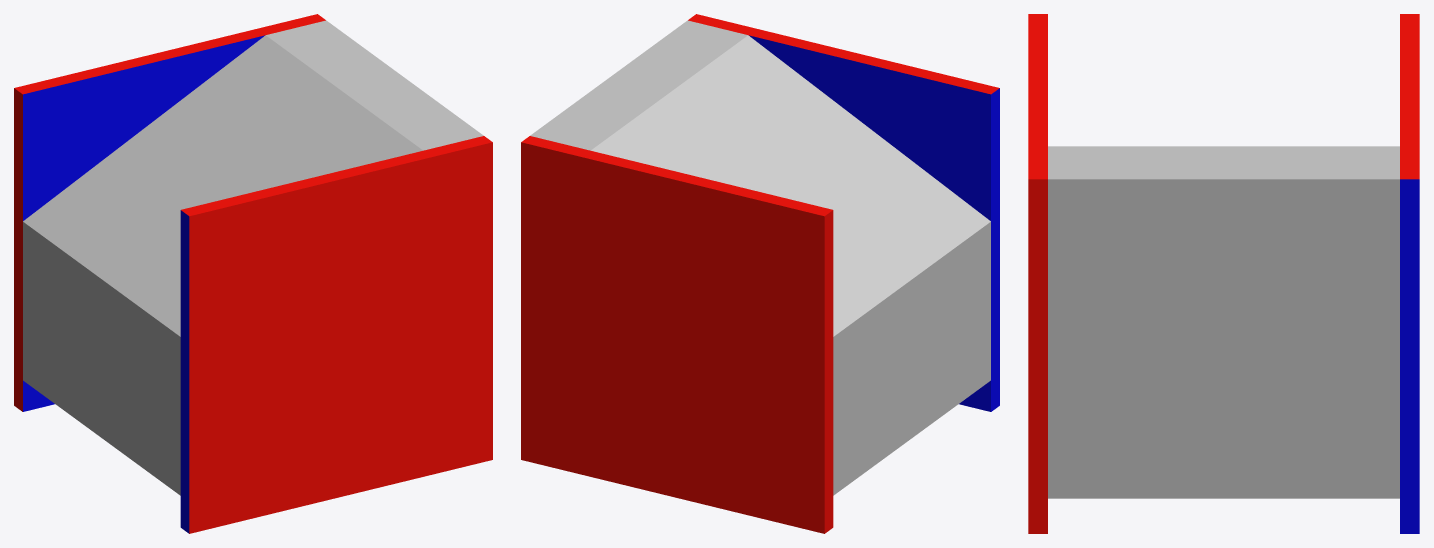
The model's file is ramp2.obj.
3 views of the same model, side by side, from view 1: azimuth 30°, elevation 25°; view 2: azimuth 150°, elevation 25°; view 3: azimuth 270°, elevation 25° (orthographic). The views are drawn at different scales.
Parts seen in each view (by area): view 1: wall_taller, ramp2, wall_taller.001; view 2: wall_taller.001, ramp2, wall_taller; view 3: ramp2, wall_taller, wall_taller.001.
Part boxes in pixels (left/top/right/bottom): wall_taller: left=180, top=136, right=492, bottom=533; ramp2: left=23, top=20, right=483, bottom=495; wall_taller.001: left=14, top=14, right=325, bottom=411; wall_taller.001: left=521, top=136, right=833, bottom=533; ramp2: left=530, top=20, right=990, bottom=495; wall_taller: left=688, top=14, right=999, bottom=411; ramp2: left=1048, top=146, right=1399, bottom=498; wall_taller: left=1028, top=14, right=1047, bottom=533; wall_taller.001: left=1400, top=14, right=1419, bottom=533.
Size of the model in its own units: 10 by 10 by 10.
